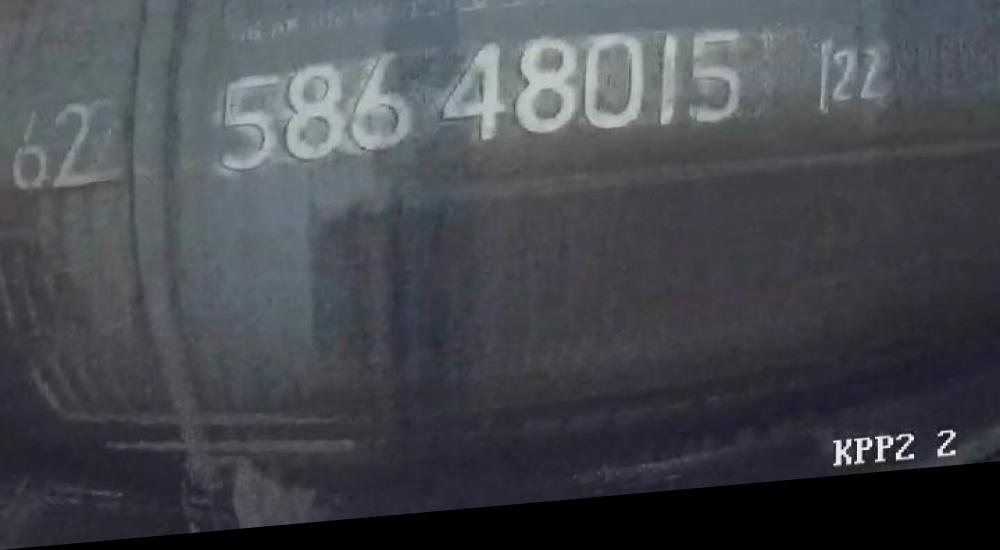Wagon-number: (219, 31, 744, 179)
